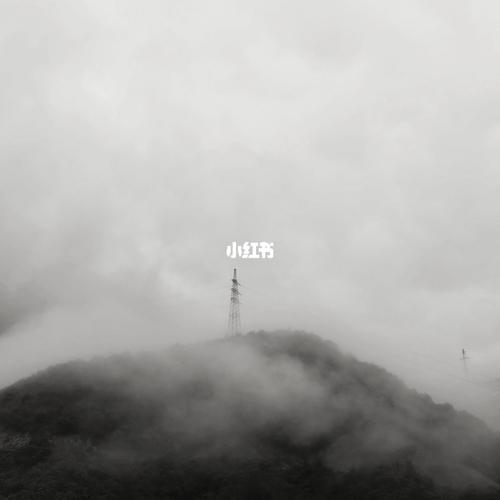mountain: (0, 327, 490, 495)
